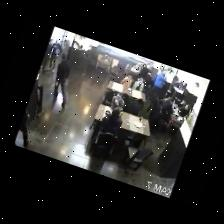person: (53, 54, 68, 106), (99, 109, 121, 136), (145, 73, 165, 96), (18, 108, 28, 148), (48, 41, 61, 71), (41, 40, 52, 72), (110, 92, 123, 110), (138, 62, 150, 79), (119, 76, 132, 88), (131, 78, 142, 91), (178, 105, 188, 116)
